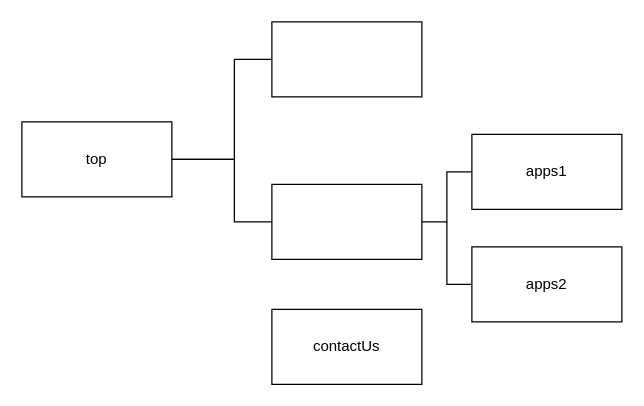
Image size: 644x406. Some labels were removed from this diagram. The shapes that lost their labels are listed below. From the top down, each one's centre as x and y in pixels, then its label:
At pixel 346 59: "about".
At pixel 346 221: "works".
